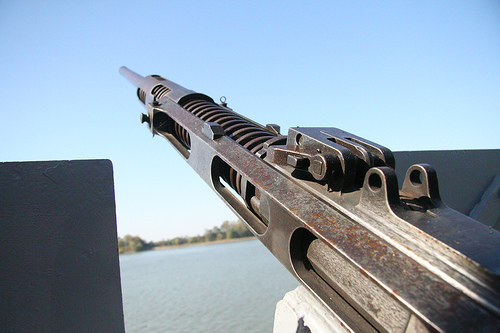rifle: (114, 50, 488, 306)
